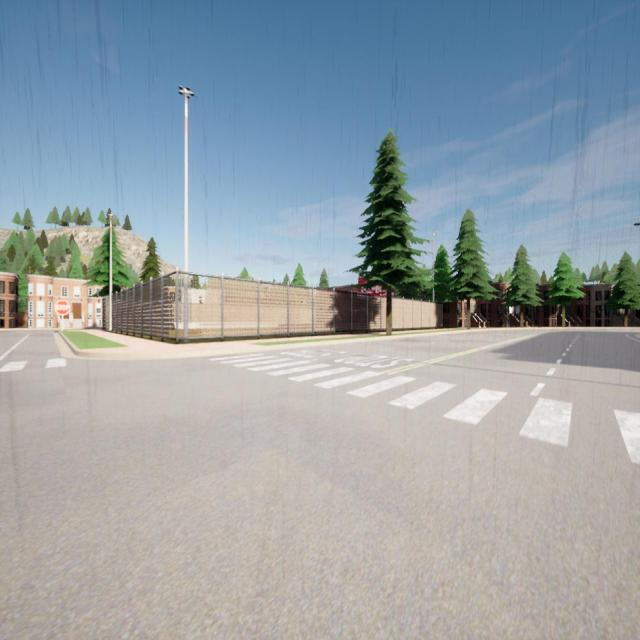Traffic_Signs: (56, 302, 69, 315)
